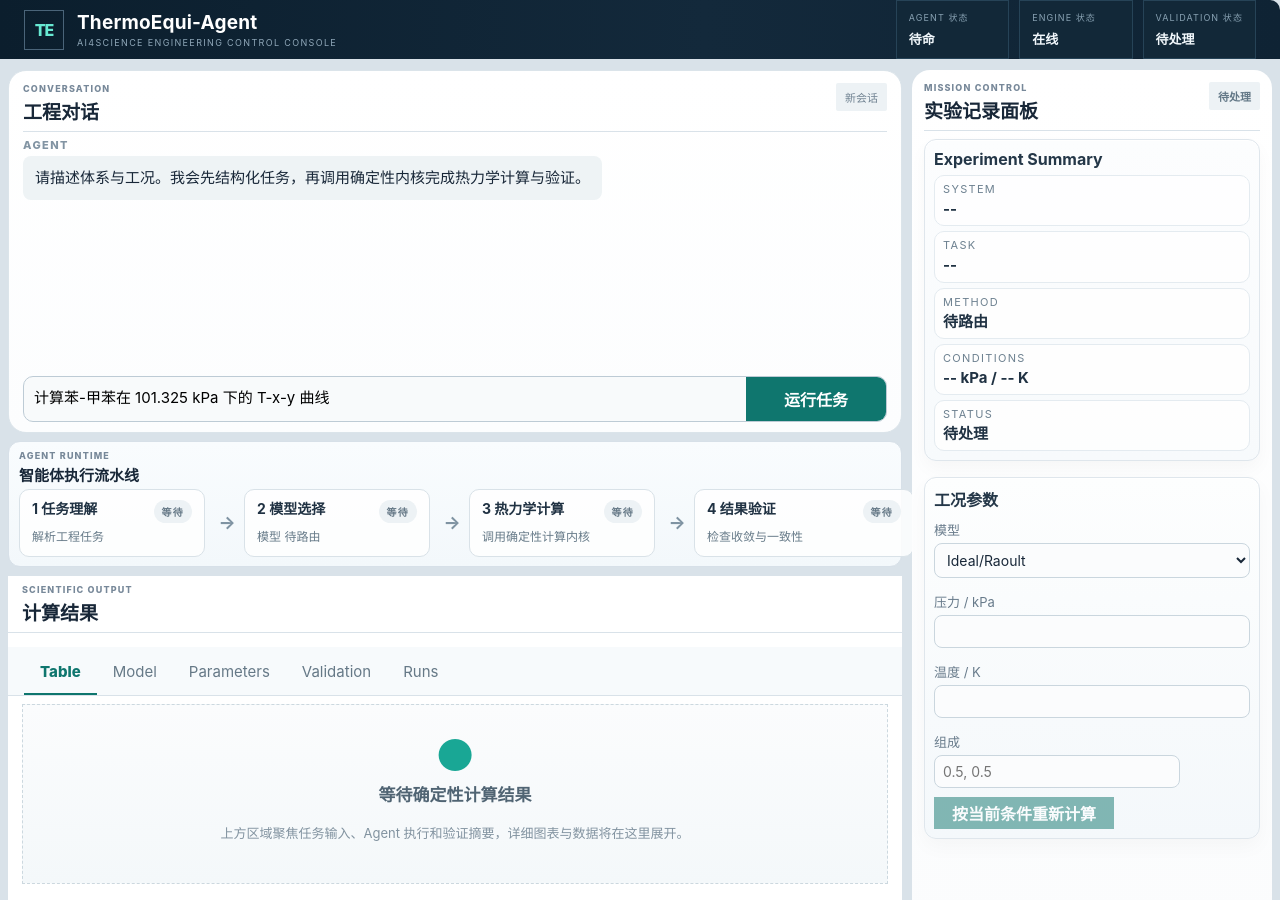
Test case: Workbench › keeps API errors in the diagnostic panel
Click the button "运行任务" at (816, 399), box x1=746 y1=377 x2=886 y2=421
(page scrolled)
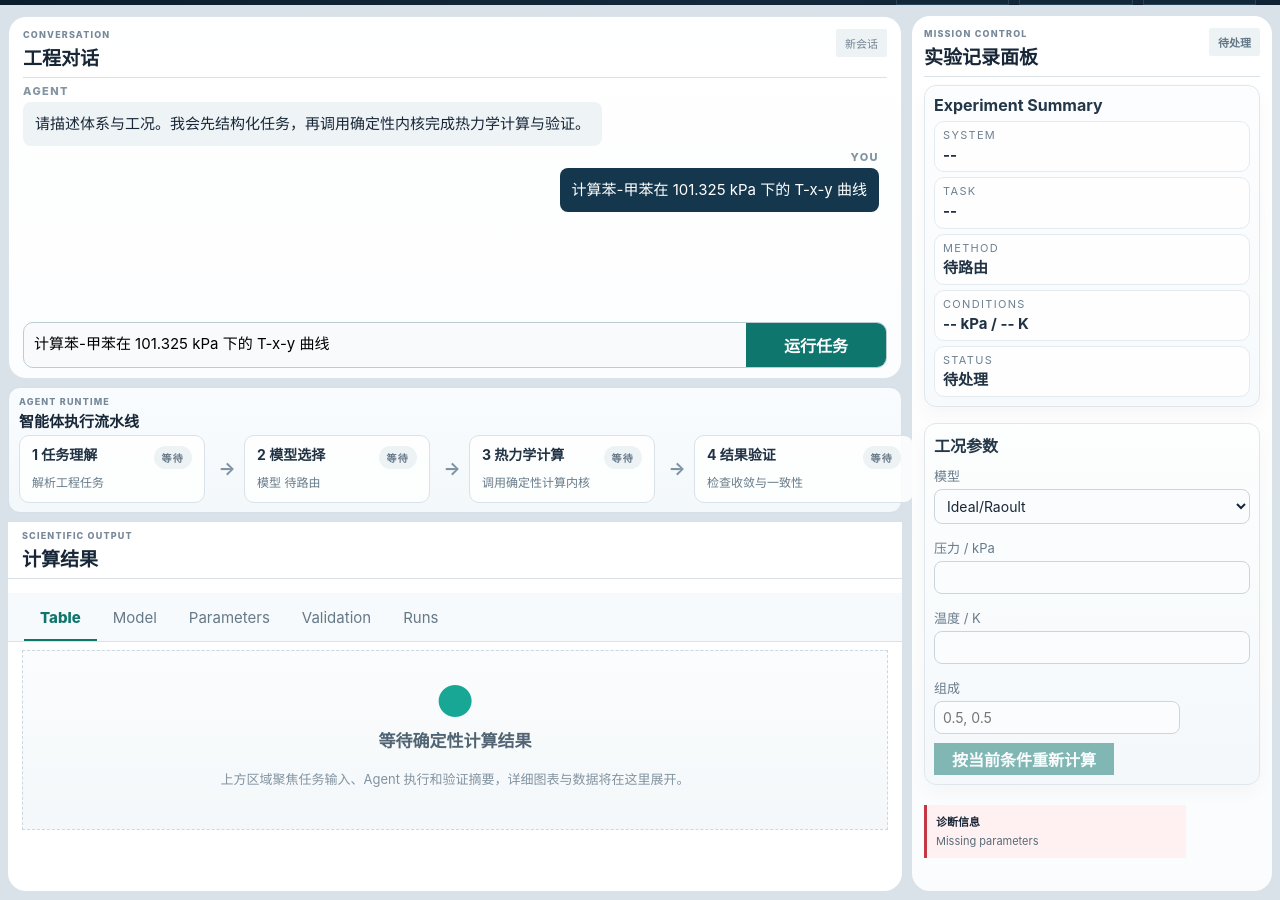
Expected: the message shows "Missing parameters", x1=936 y1=834 x2=1038 y2=848
